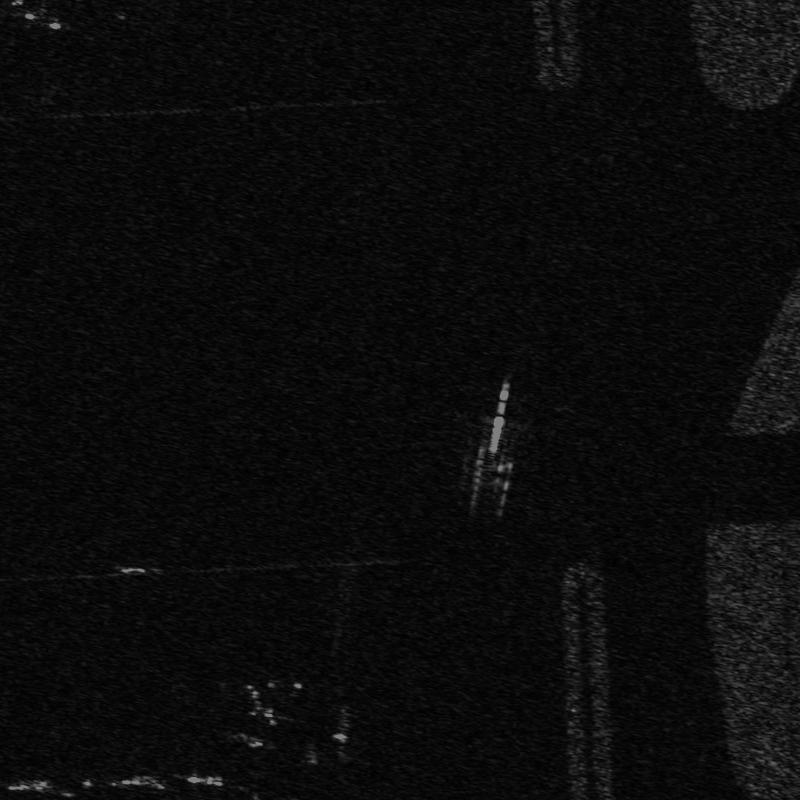A320/321: (220, 667, 310, 733)
